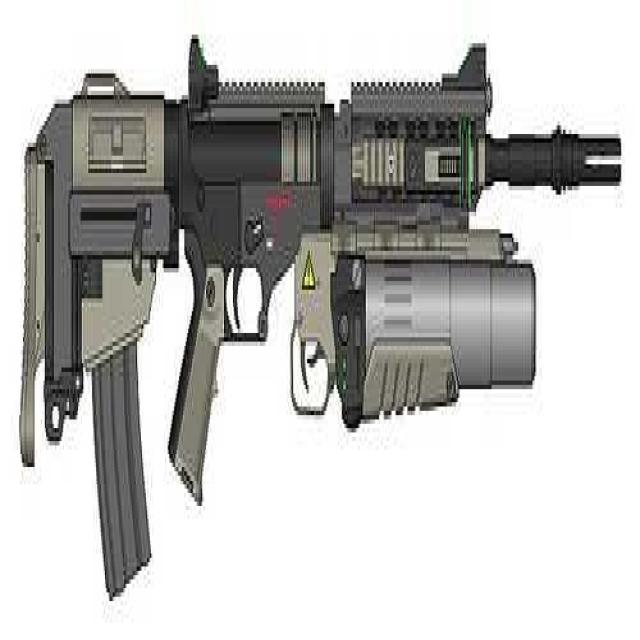Rifle: (34, 22, 640, 514)
